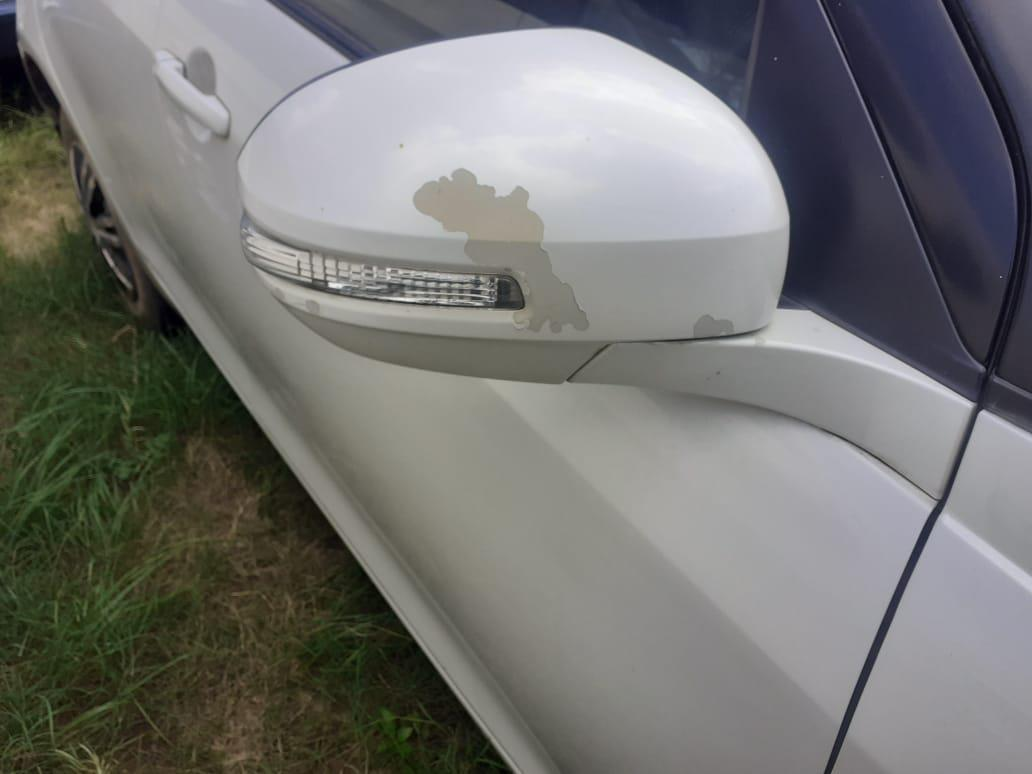Sidemirror-Damage: (234, 15, 810, 422)
